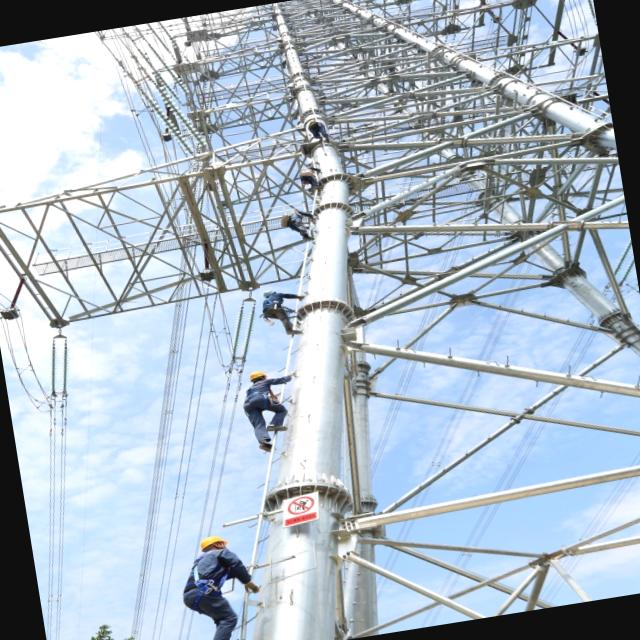helmet: (196, 534, 231, 554), (244, 369, 268, 384)
no-vest: (177, 547, 250, 623), (247, 382, 278, 408)
